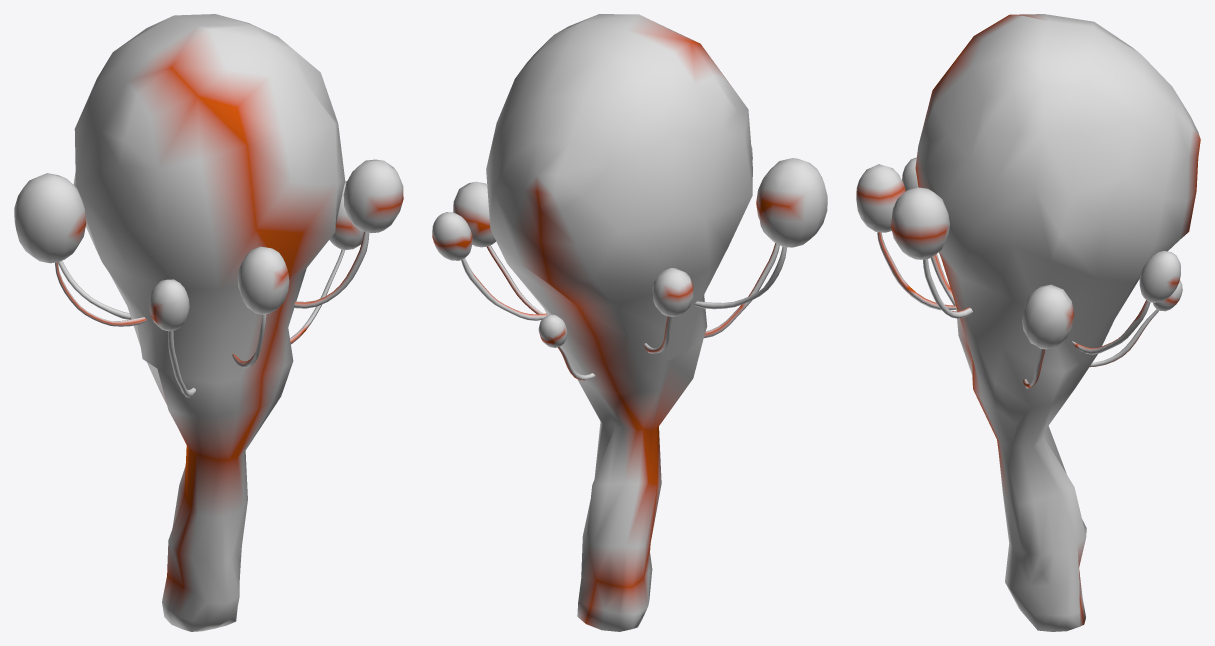
The model's file is Floating.fbx.
3 renders of one model, left to right at view 1: azimuth 30°, elevation 25°; view 2: azimuth 150°, elevation 25°; view 3: azimuth 270°, elevation 25°, orthographic.
Visible parts, largest first — view 1: Health_plant_Low; view 2: Health_plant_Low; view 3: Health_plant_Low.
Boxes of the visible parts, x1=… form: Health_plant_Low: x1=14, y1=14, x2=403, y2=631; Health_plant_Low: x1=432, y1=14, x2=827, y2=631; Health_plant_Low: x1=856, y1=14, x2=1200, y2=631.
Size of the model in its own units: 1.05 by 1.68 by 0.8738.
